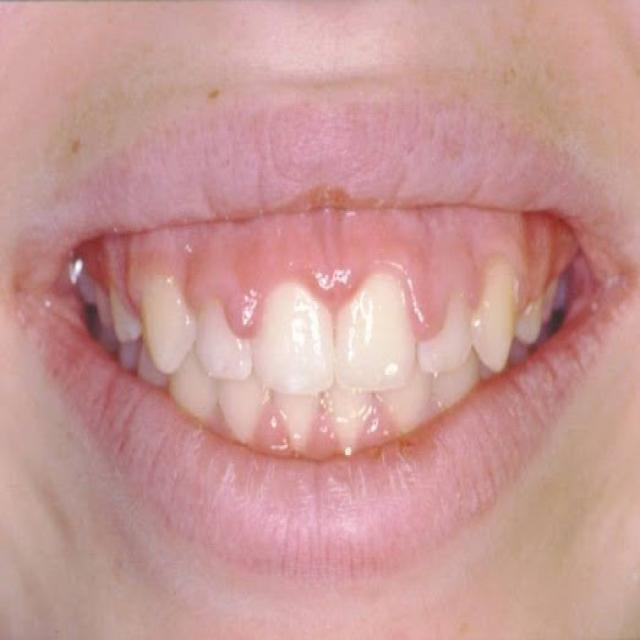tooth: (138, 274, 185, 364), (342, 288, 386, 378), (257, 311, 317, 373), (175, 353, 219, 424), (197, 306, 245, 360), (376, 386, 430, 434), (421, 311, 463, 350), (481, 292, 505, 356), (230, 382, 259, 432), (284, 396, 312, 431), (336, 392, 355, 436)
